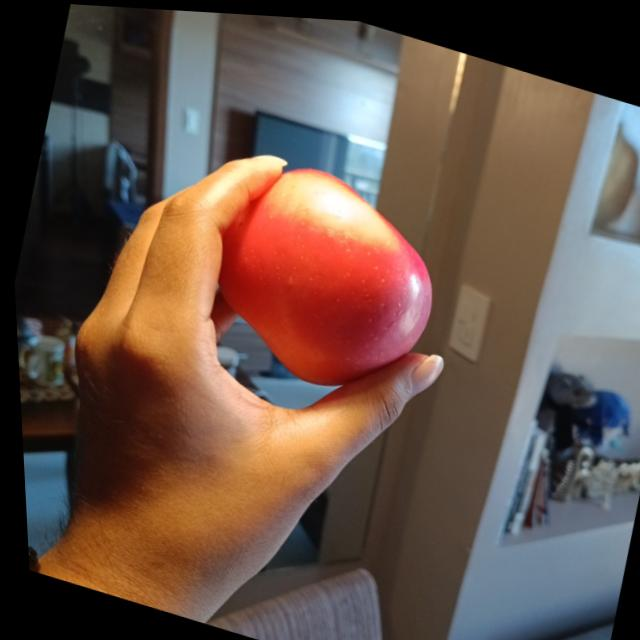apple: (188, 142, 457, 412)
